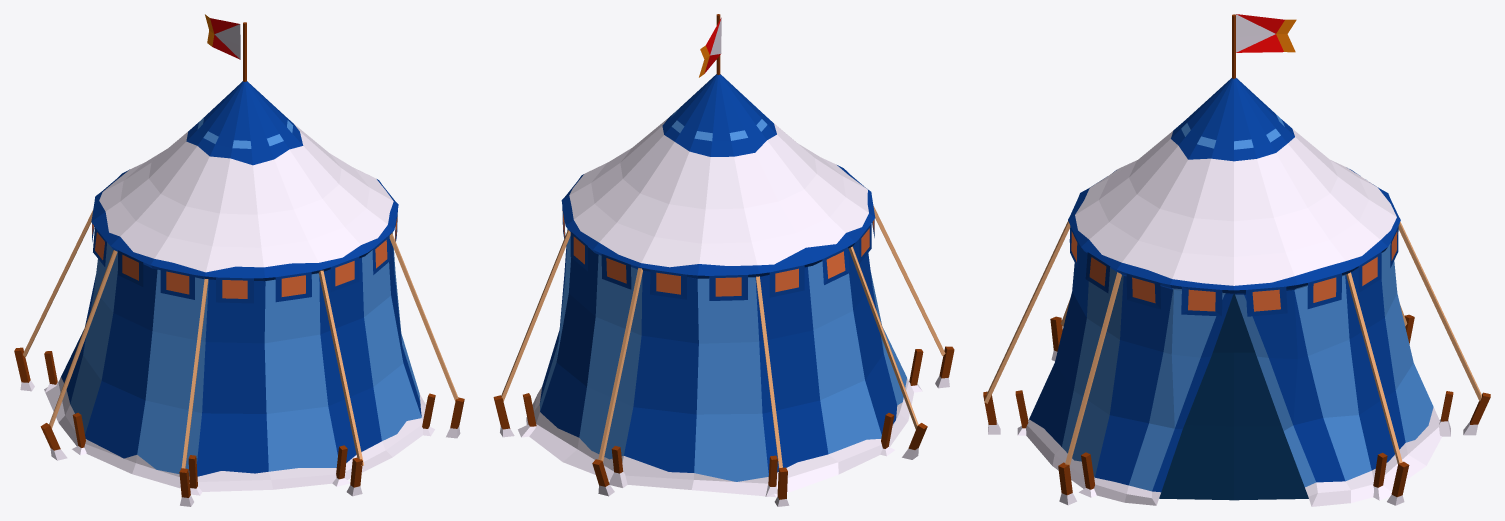
Rendered from Tent.glb.
3 renders of one model, left to right at view 1: azimuth 30°, elevation 25°; view 2: azimuth 150°, elevation 25°; view 3: azimuth 270°, elevation 25°, orthographic. The views are drawn at different scales.
Visible parts, largest first — view 1: Tent1; view 2: Tent1; view 3: Tent1.
Boxes of the visible parts, box(x1,y1,x2,y2) form: Tent1: box(14, 14, 464, 506); Tent1: box(493, 14, 954, 506); Tent1: box(983, 14, 1490, 506).
Size of what is drawn, in the model's own units: 3.08 by 3.31 by 3.65.
Materials: 1 (1 with a texture image).
